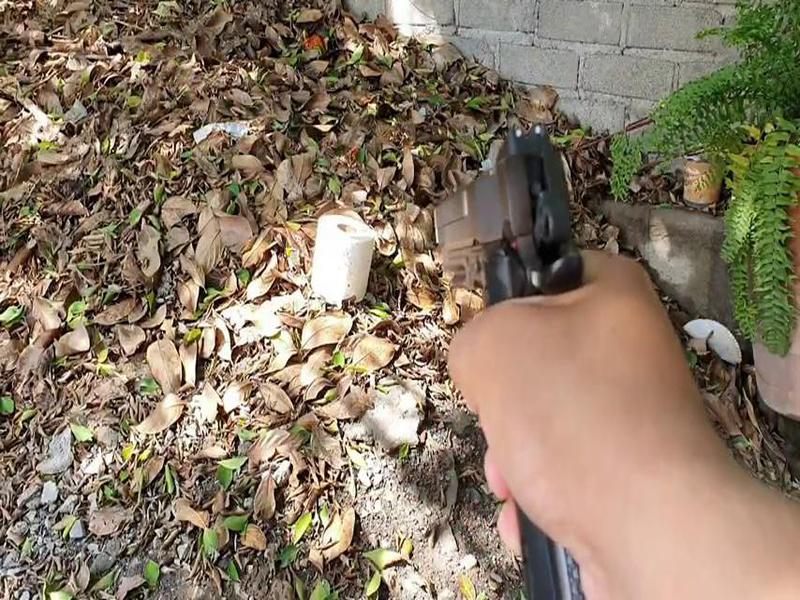Pistola: (408, 120, 628, 376)
